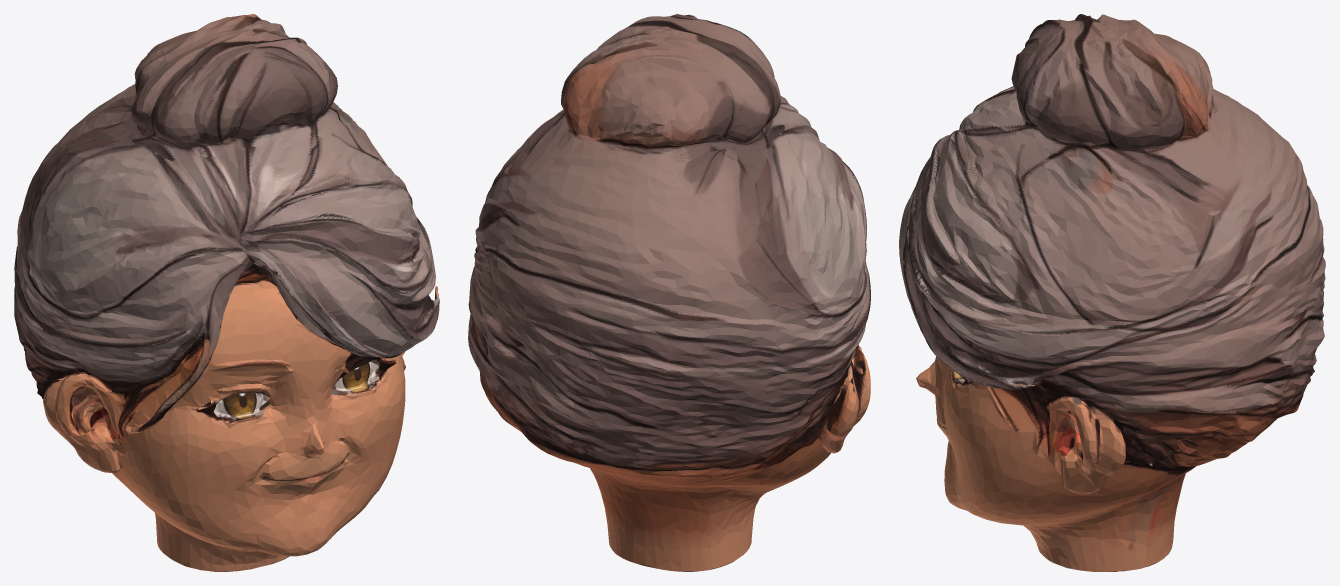
File: side_mami_repaired_atlas.glb
The picture shows the model from 3 angles, left to right: view 1: azimuth 30°, elevation 25°; view 2: azimuth 150°, elevation 25°; view 3: azimuth 270°, elevation 25°; orthographic projection.
Parts seen in each view (by area): view 1: temp_mesh.ply; view 2: temp_mesh.ply; view 3: temp_mesh.ply.
Boxes of the visible parts, x1,y1,x2,y2 form: temp_mesh.ply: [14, 14, 439, 571]; temp_mesh.ply: [468, 14, 870, 571]; temp_mesh.ply: [899, 14, 1325, 571].
Size of the model in its own units: 1.47 by 1.98 by 1.48.
1 material, 1 textured.
